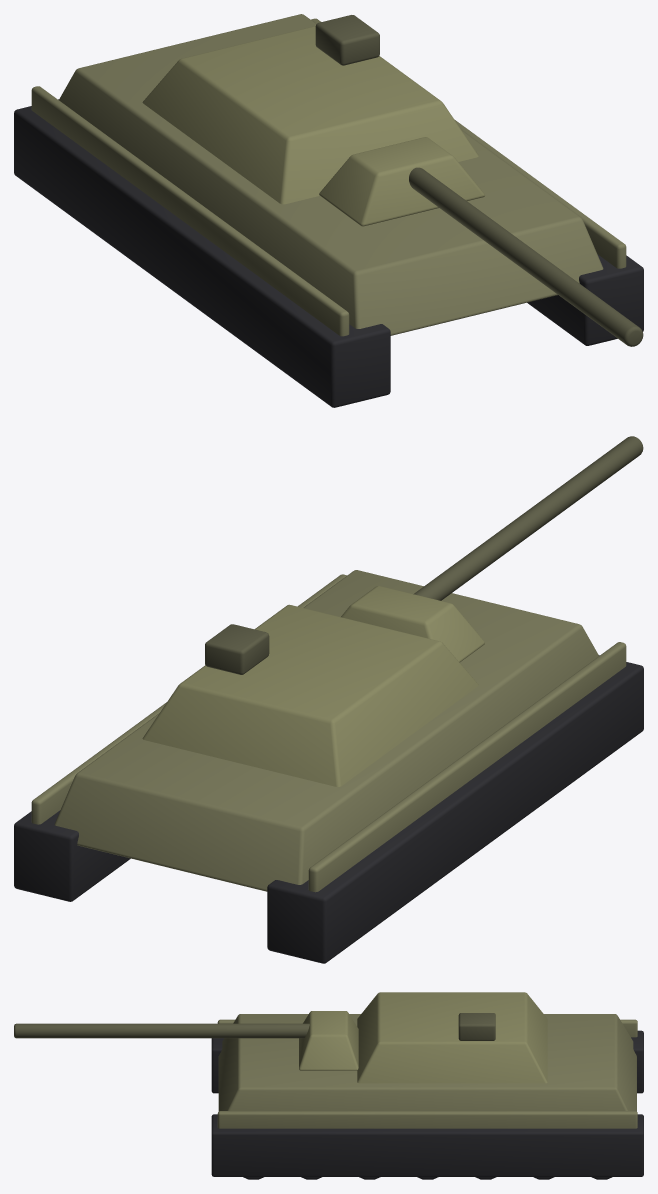
Rendered from tanque_moderno.glb.
3 views of the same model, one above another, from view 1: azimuth 30°, elevation 25°; view 2: azimuth 150°, elevation 25°; view 3: azimuth 270°, elevation 25° (orthographic). The views are drawn at different scales.
Visible parts, largest first — view 1: tanque_moderno; view 2: tanque_moderno; view 3: tanque_moderno.
Part boxes in pixels (x1=…): tanque_moderno: x1=14, y1=14, x2=643, y2=407; tanque_moderno: x1=14, y1=436, x2=643, y2=963; tanque_moderno: x1=14, y1=992, x2=643, y2=1179.
Bounding box in the file's own units: 3.95 × 2.39 × 10.2.
